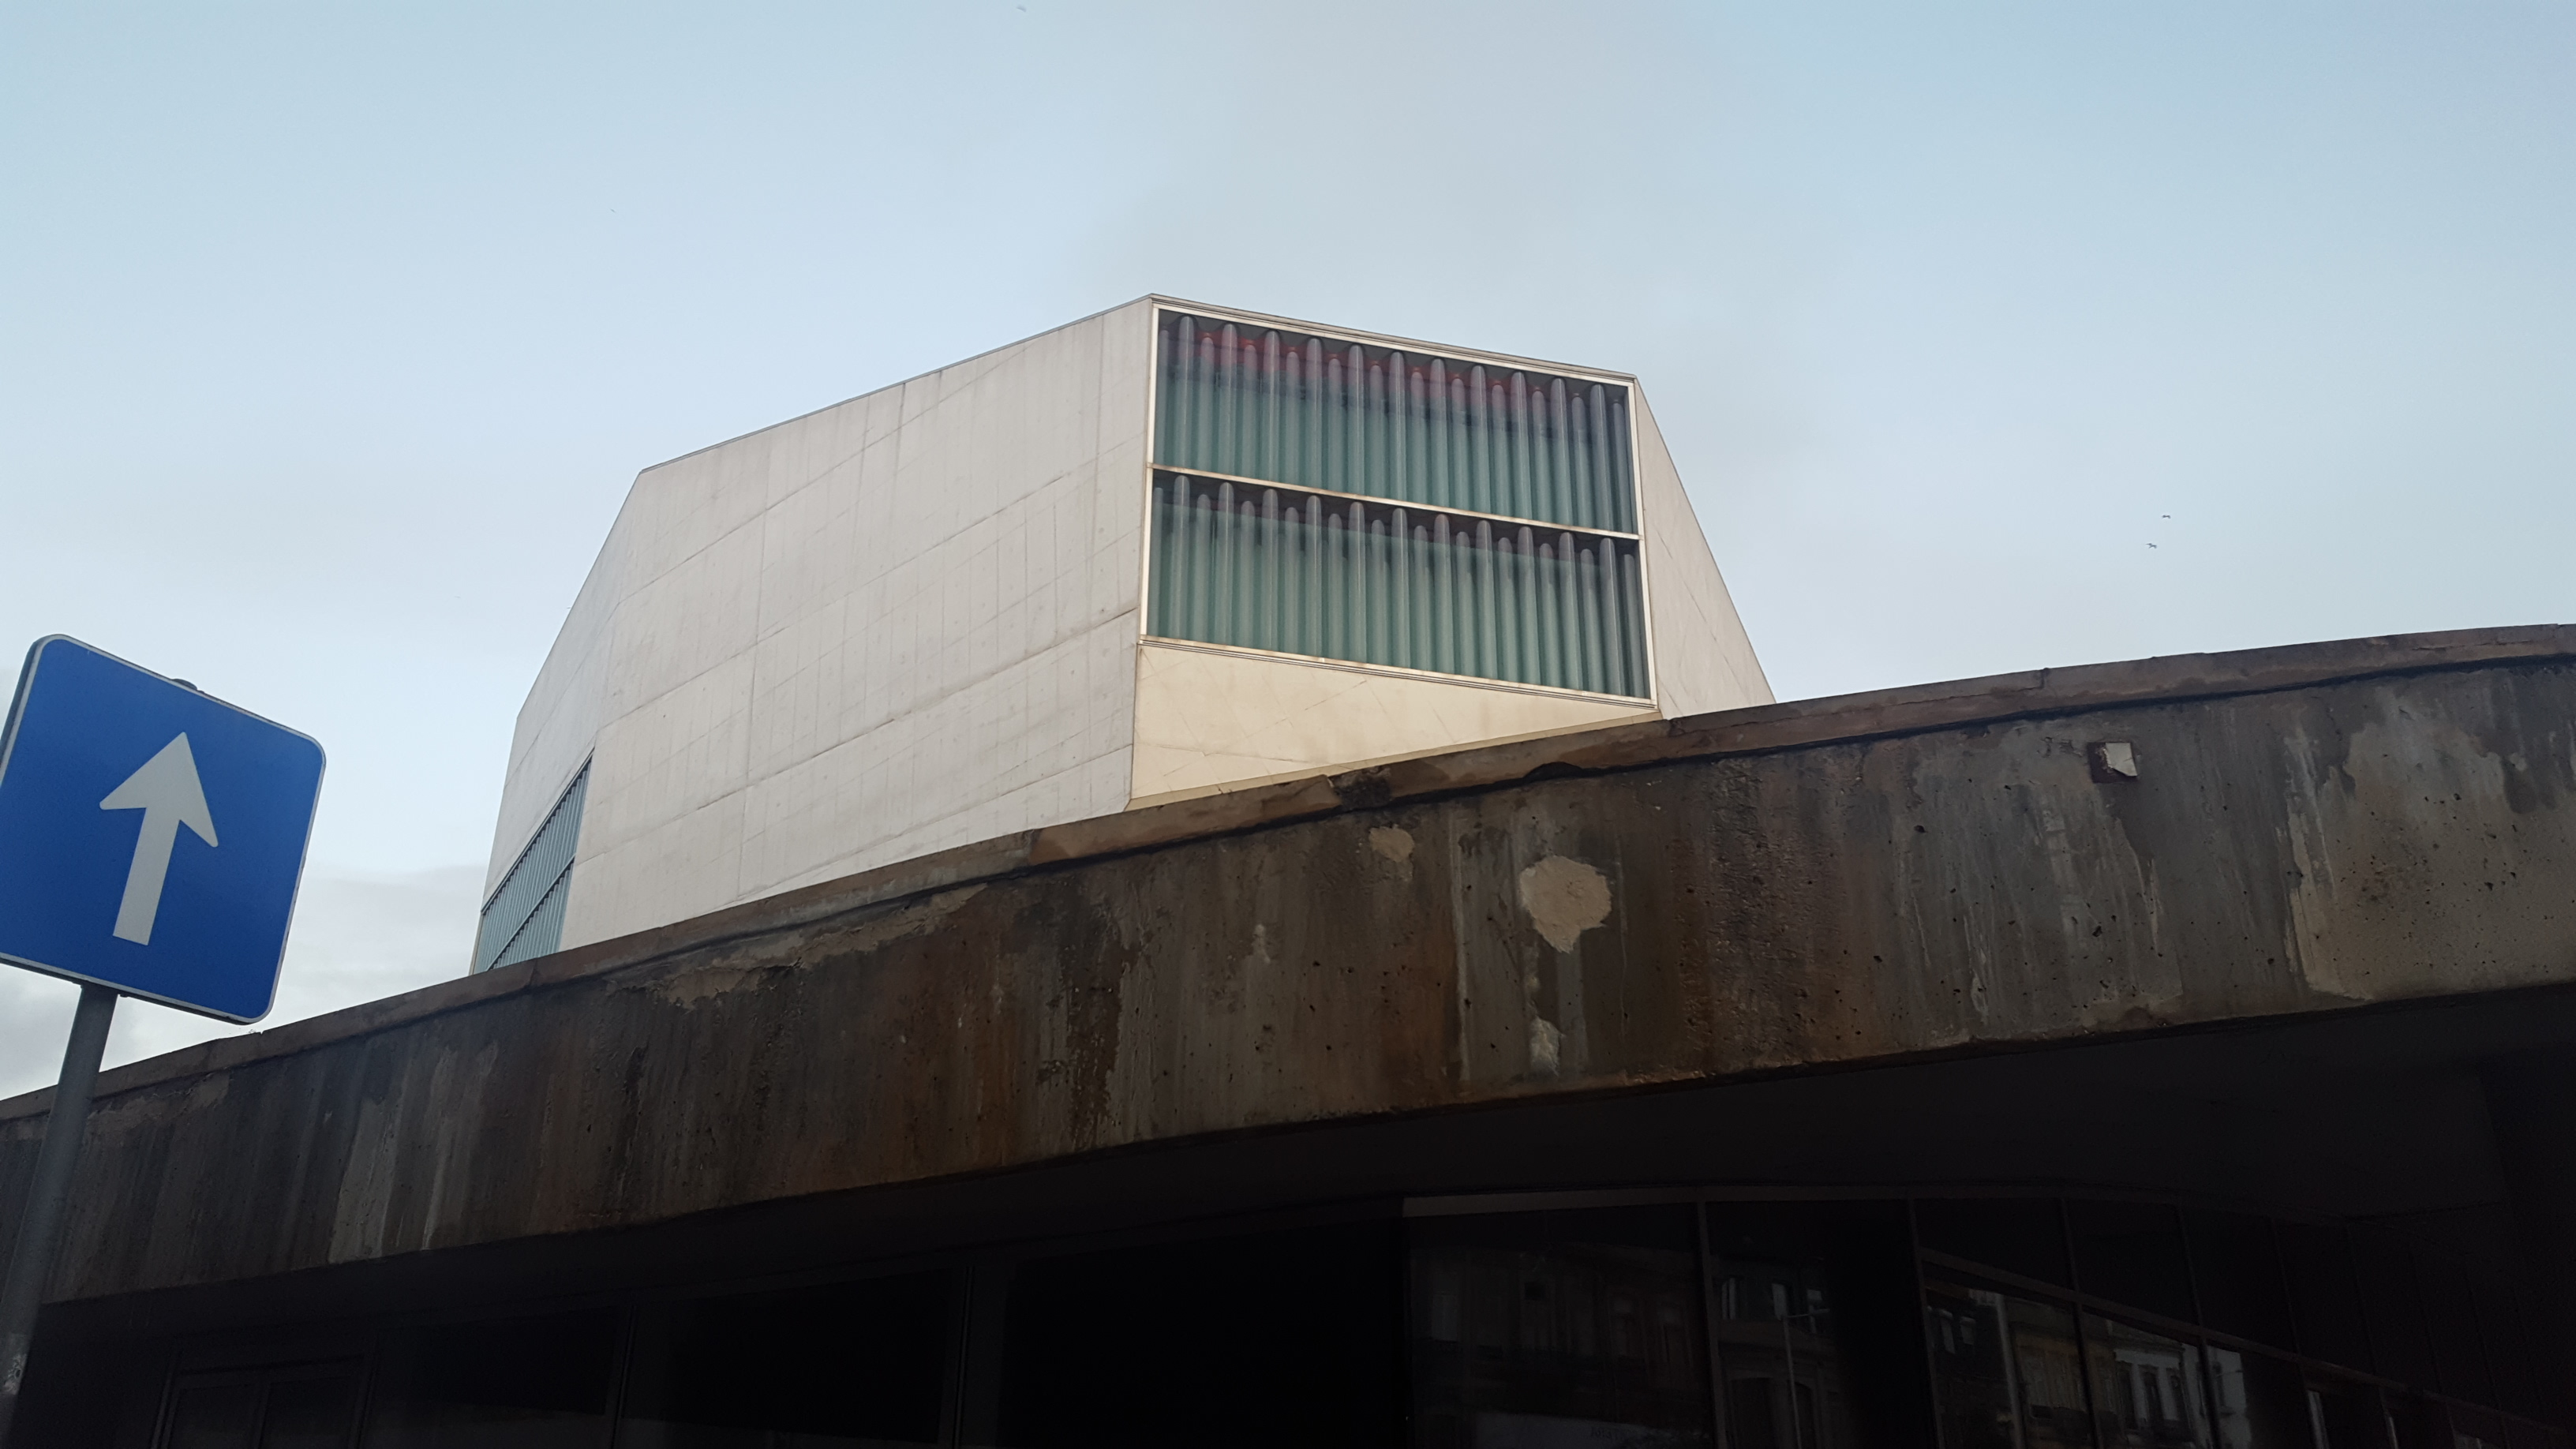musica: (564, 320, 1808, 706)
